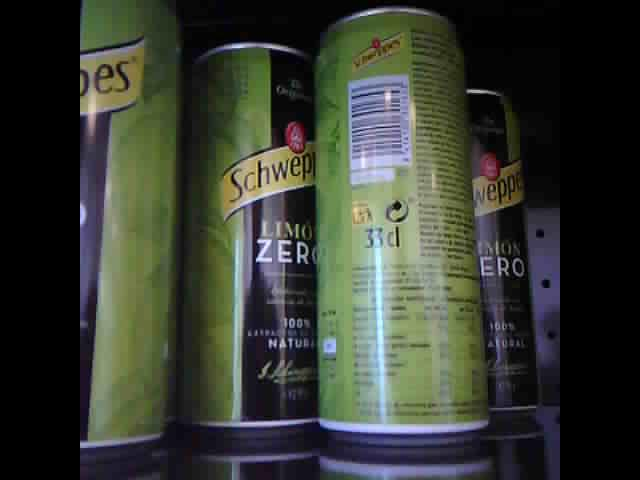schweppes: (317, 9, 490, 445), (175, 41, 319, 439), (79, 3, 182, 454), (466, 73, 537, 431)
